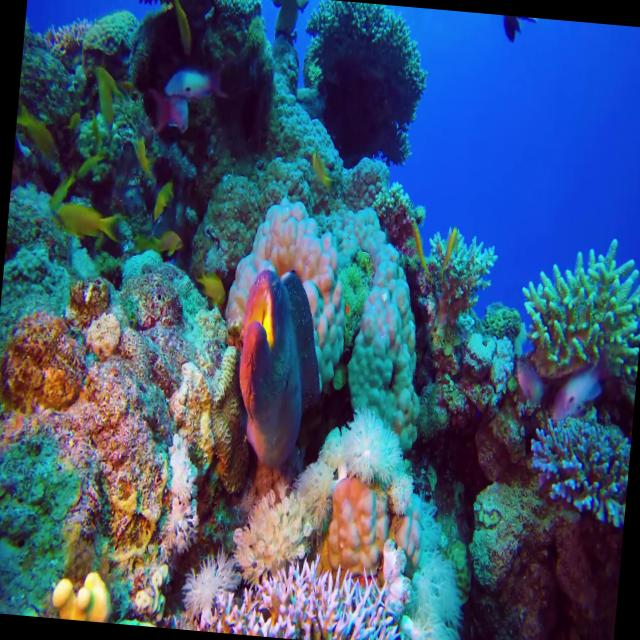fish: (231, 264, 332, 473), (549, 348, 613, 427), (162, 58, 231, 103), (56, 201, 126, 240), (195, 262, 230, 304)
